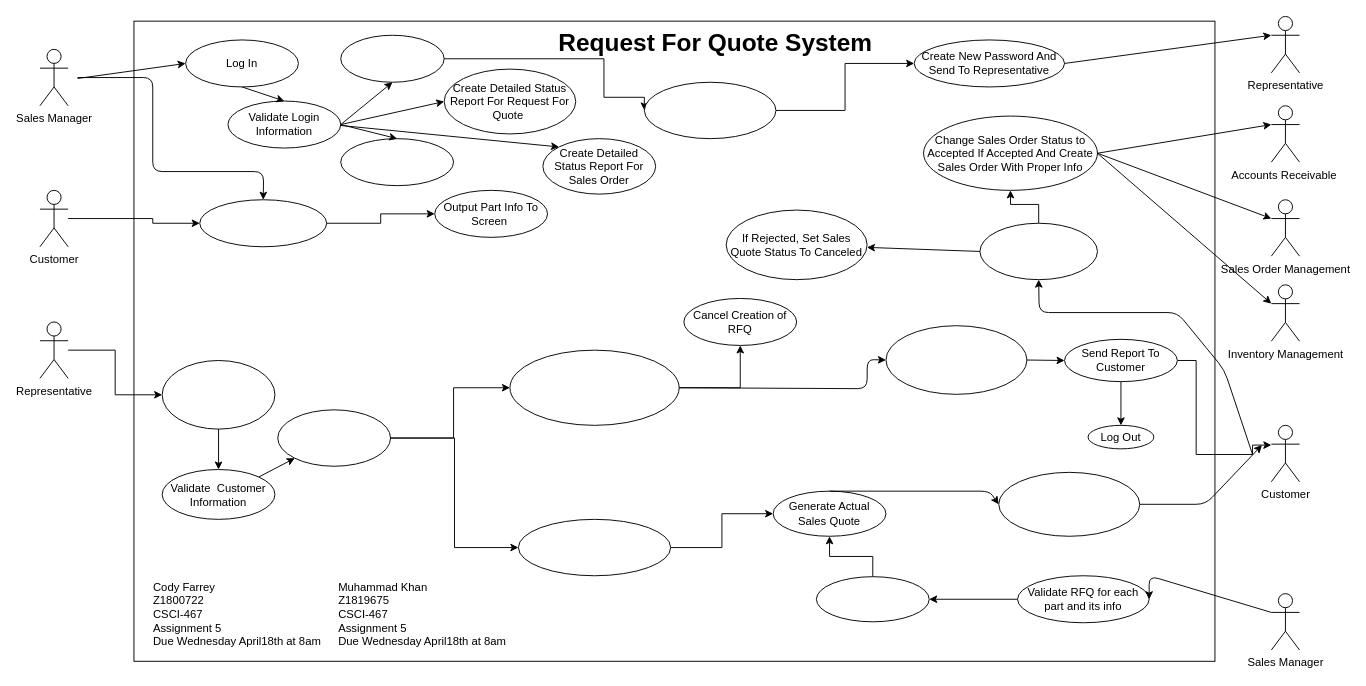
This 1366x686 diagram has some shape labels left out. The shapes that lost their labels are listed below. From the top down, each one's centre as x and y in pixels, then its label:
At point (392, 58): "Create New Customer With Info".
At point (709, 110): "Check To Ensure Customer Data Is Valid".
At point (397, 162): "Update Existing Customer Account".
At point (263, 223): "Search for Part With Proper Info".
At point (1038, 251): "Accept Or Reject Sales Quote Within 30 Days".
At point (956, 359): "Generate RFQ and Part Info and set status to Created".
At point (218, 394): "Log Into Customer Account".
At point (594, 387): "If Customer Is Manual Quote, Manually Choose Options For Quote Using RFQ Info".
At point (334, 437): "Create RFQ with Customer Info".
At point (1069, 503): "Submit Sale Quote(s) To Customer With Submitted Status".
At point (594, 547): "If Customer Is Auto Quote, Create RFQ With Info".
At point (872, 599): "Create Sales Quote With Proper Info".
